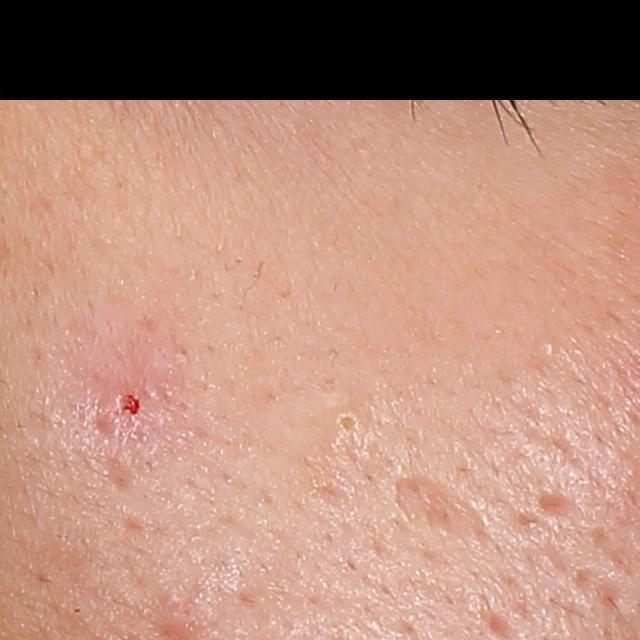atrophic_scar: (390, 473, 502, 557), (536, 479, 591, 536), (98, 455, 141, 494)
comedo: (332, 409, 364, 440)
papule: (90, 377, 156, 444)
